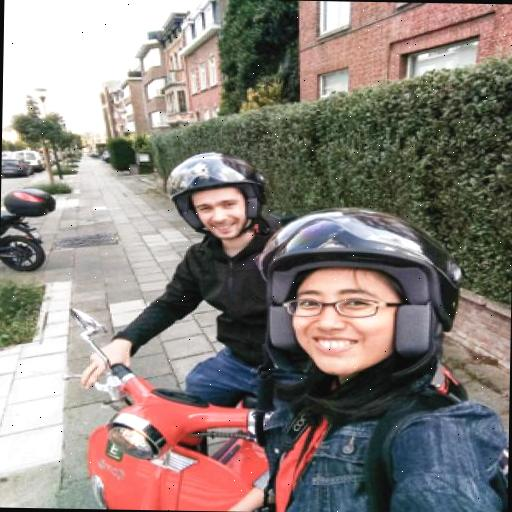helmet: (50, 134, 276, 512)
